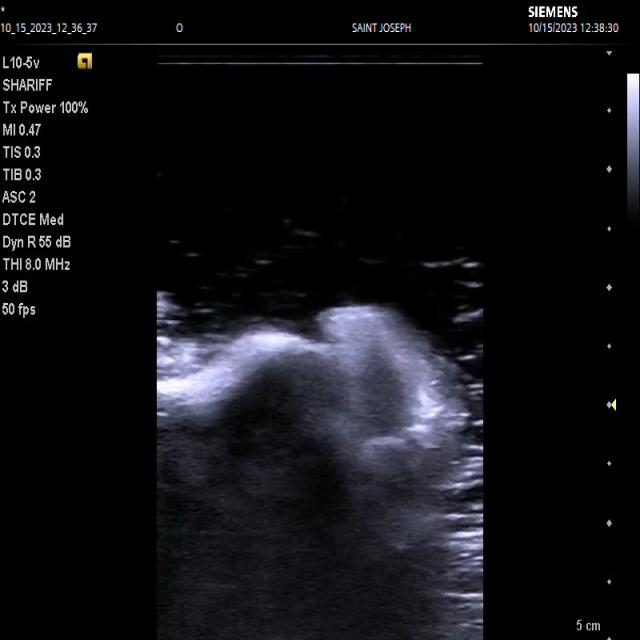tissue: (156, 306, 463, 640)
